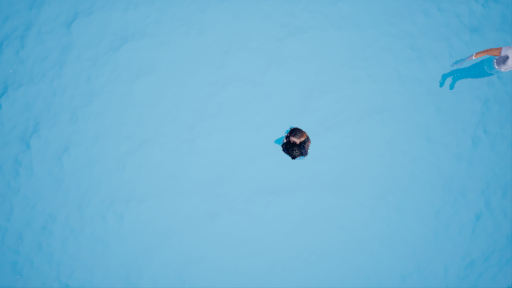person: (439, 44, 512, 89), (267, 125, 319, 163)
